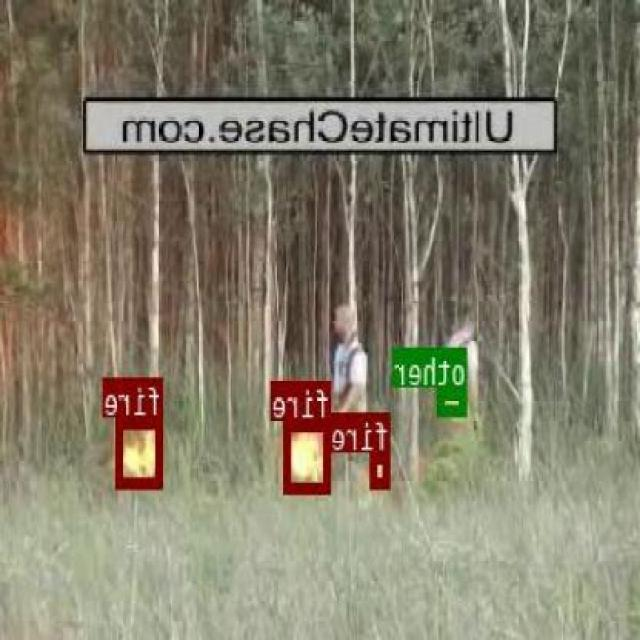Fire: (285, 418, 333, 491), (116, 414, 164, 486), (372, 450, 392, 487)
